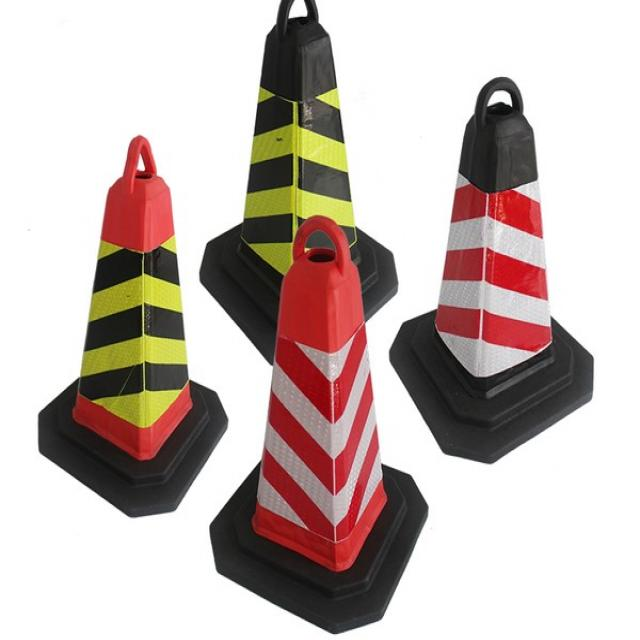reflective_cone: (203, 211, 432, 634), (385, 75, 593, 462), (32, 130, 225, 514), (193, 1, 402, 355)
